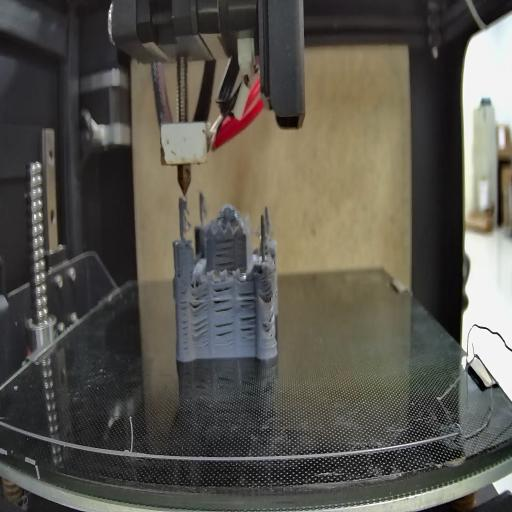cracks: (240, 290, 257, 340), (214, 236, 237, 270), (188, 289, 210, 314), (214, 288, 235, 314), (179, 291, 188, 350), (258, 280, 276, 304), (216, 321, 234, 343), (193, 318, 210, 340), (263, 312, 274, 334)
